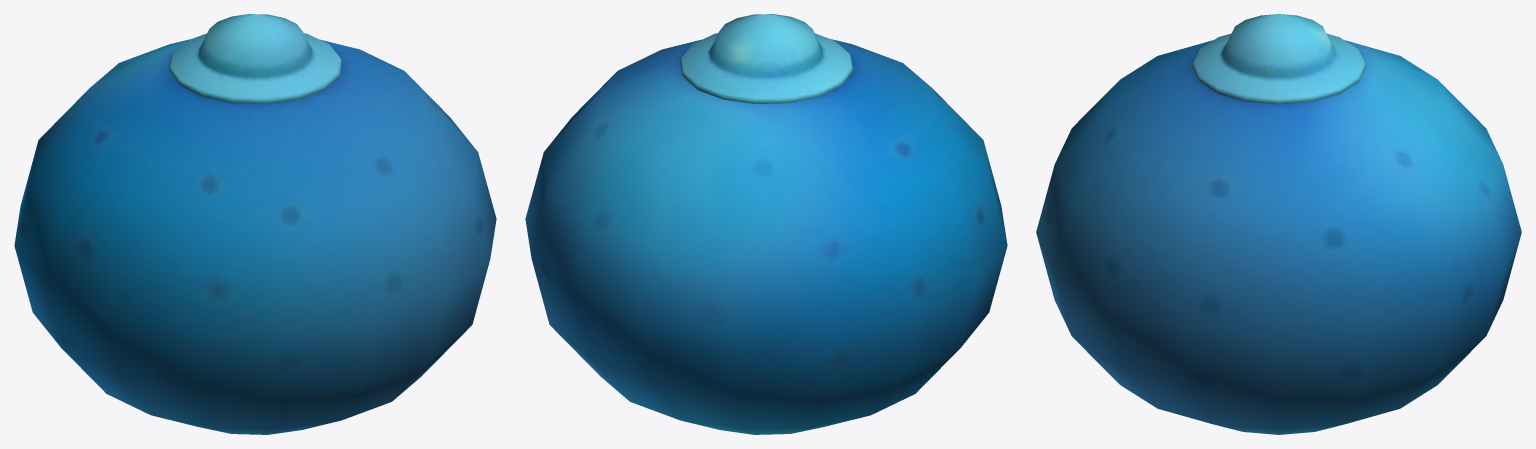
The model's file is oran berry.obj.
3 renders of one model, left to right at view 1: azimuth 30°, elevation 25°; view 2: azimuth 150°, elevation 25°; view 3: azimuth 270°, elevation 25°, orthographic.
Visible parts, largest first — view 1: pref_fruit_green.001_pref_fruit_green; view 2: pref_fruit_green.001_pref_fruit_green; view 3: pref_fruit_green.001_pref_fruit_green.
Boxes of the visible parts, bbox=[...] form: pref_fruit_green.001_pref_fruit_green: bbox=[14, 14, 496, 434]; pref_fruit_green.001_pref_fruit_green: bbox=[525, 14, 1007, 434]; pref_fruit_green.001_pref_fruit_green: bbox=[1036, 14, 1521, 434].
Bounding box in the file's own units: 3.96 × 3.55 × 3.96.
